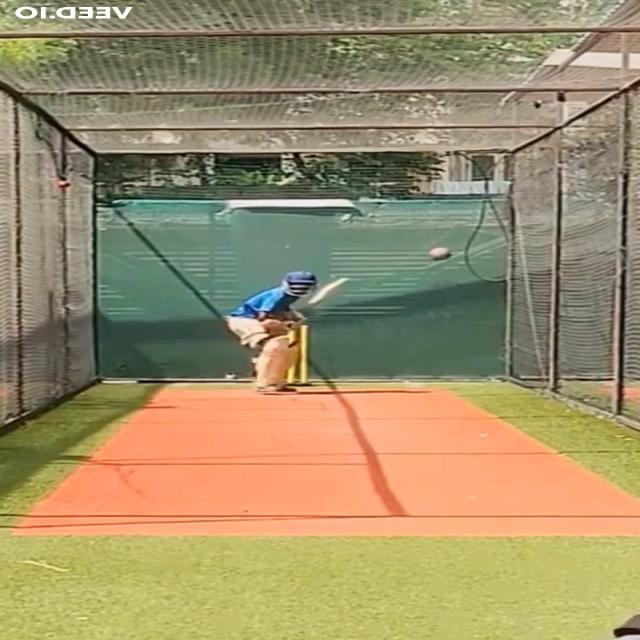ball: (426, 245, 454, 262)
stump: (285, 323, 312, 387)
